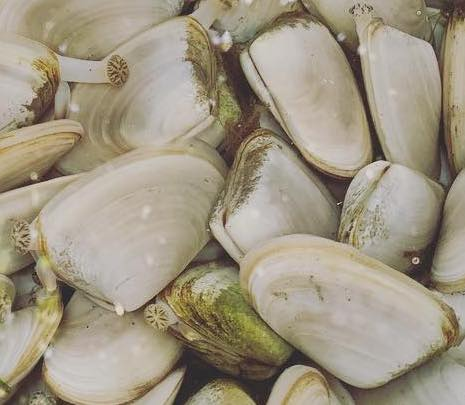tuatua: (237, 231, 460, 394), (27, 139, 225, 313), (55, 14, 221, 173), (241, 7, 371, 178), (212, 124, 341, 273), (41, 283, 187, 403), (149, 259, 291, 382), (360, 15, 445, 186), (339, 159, 444, 275), (2, 1, 179, 61), (1, 25, 61, 133), (1, 119, 85, 191)
